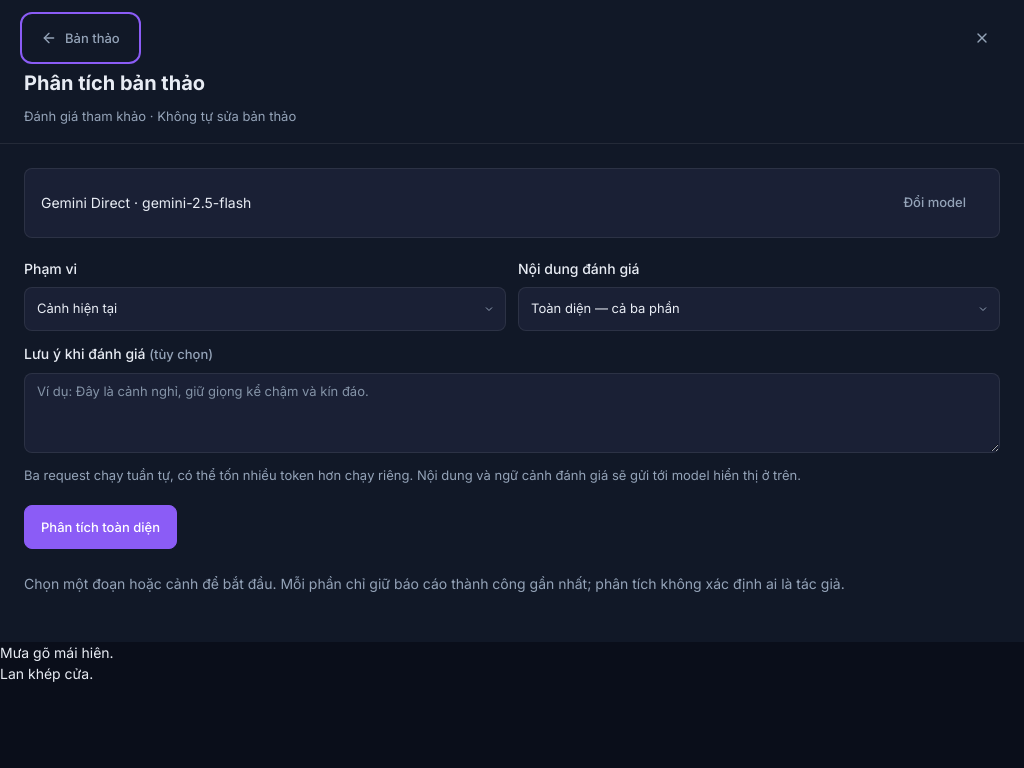
Test: review UI with real Tiptap and service › lets only the top model dialog handle Escape on mobile
The width and height of the screenshot is (1024, 768).
Click the button "Phân tích toàn diện" at (100,527), box [24,505,177,549]
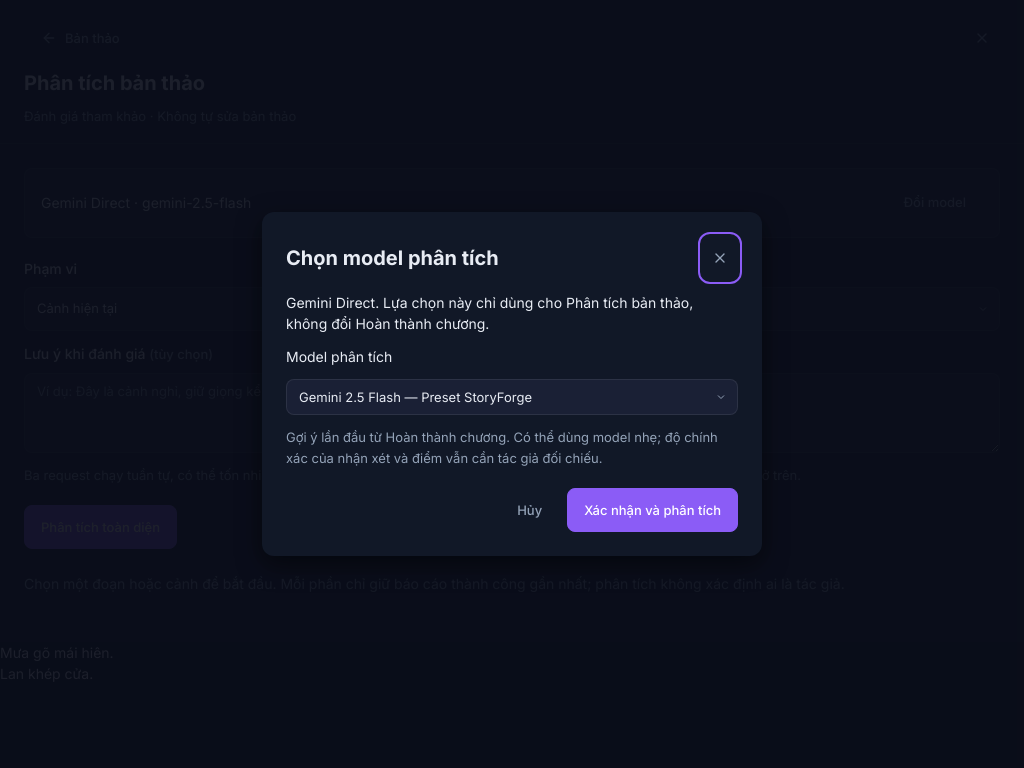
Press Escape in the dropdown labelled "Model phân tích", box [286,379,738,415]
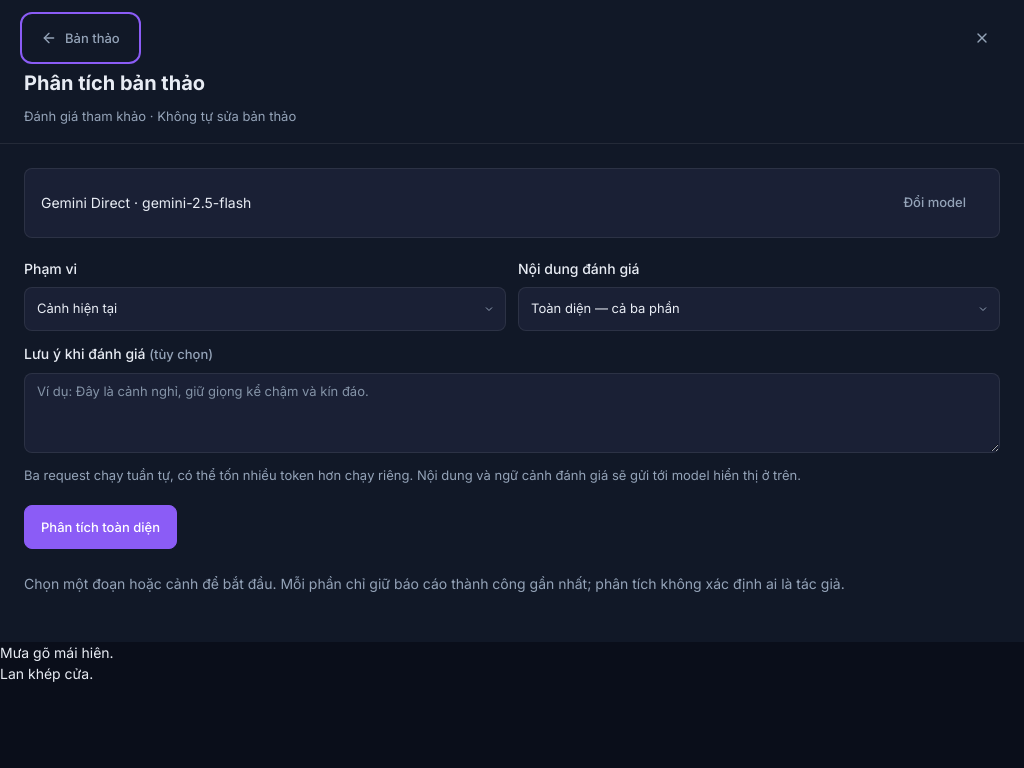
Now the dialog with class "manuscript-review-dialog" is gone
